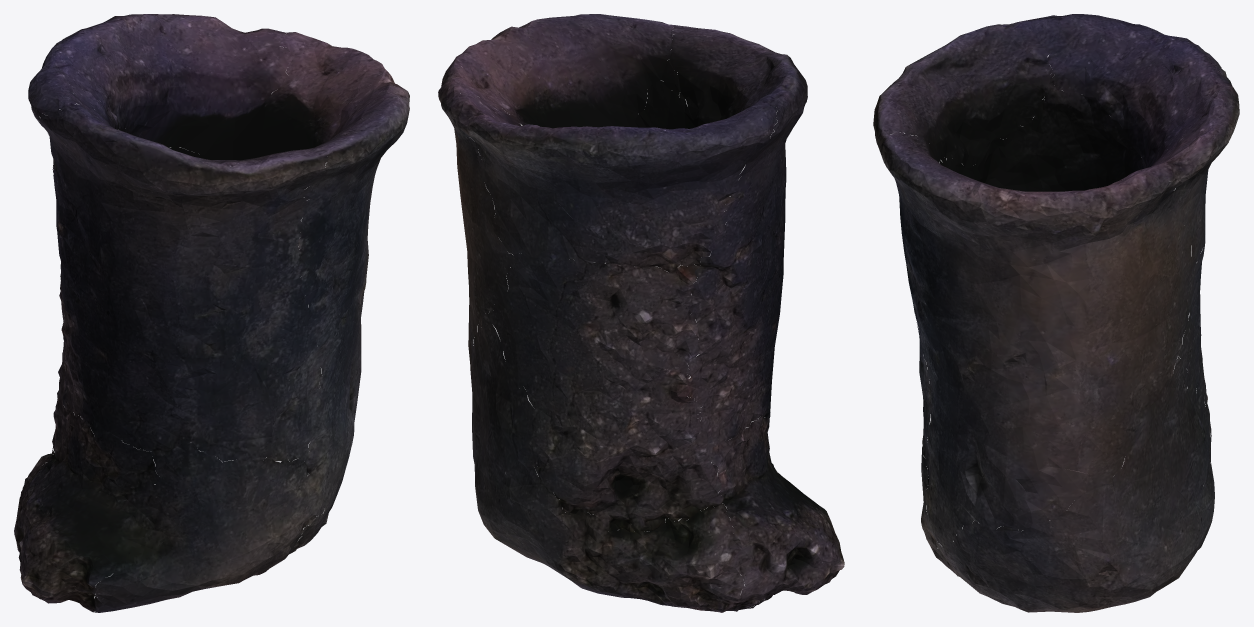
Rendered from Objeto_07_4k-b.glb.
3 views of the same model, side by side, from view 1: azimuth 30°, elevation 25°; view 2: azimuth 150°, elevation 25°; view 3: azimuth 270°, elevation 25° (orthographic). The views are drawn at different scales.
Visible parts, largest first — view 1: Mesh_0; view 2: Mesh_0; view 3: Mesh_0.
Boxes of the visible parts, <box> form: Mesh_0: <box>14,14,409,612</box>; Mesh_0: <box>438,14,844,612</box>; Mesh_0: <box>873,14,1239,612</box>.
Size of the model in its own units: 0.0842 by 0.1085 by 0.07.
Materials: 1 (1 with a texture image).
